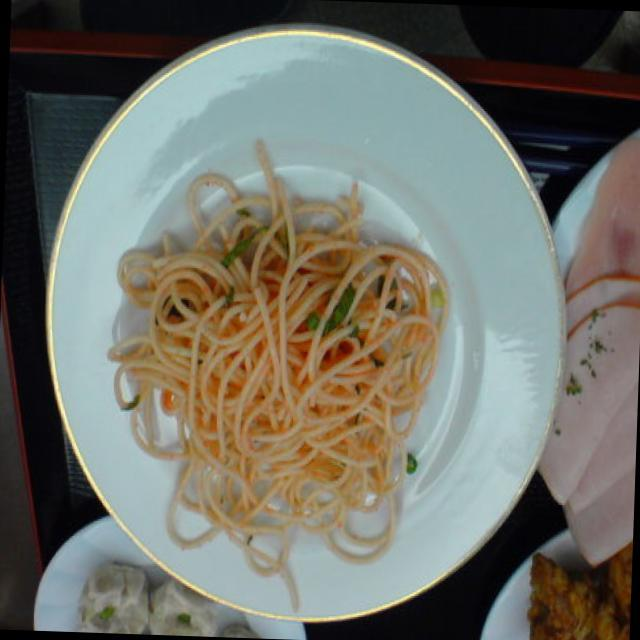Pasta: (121, 182, 446, 563)
